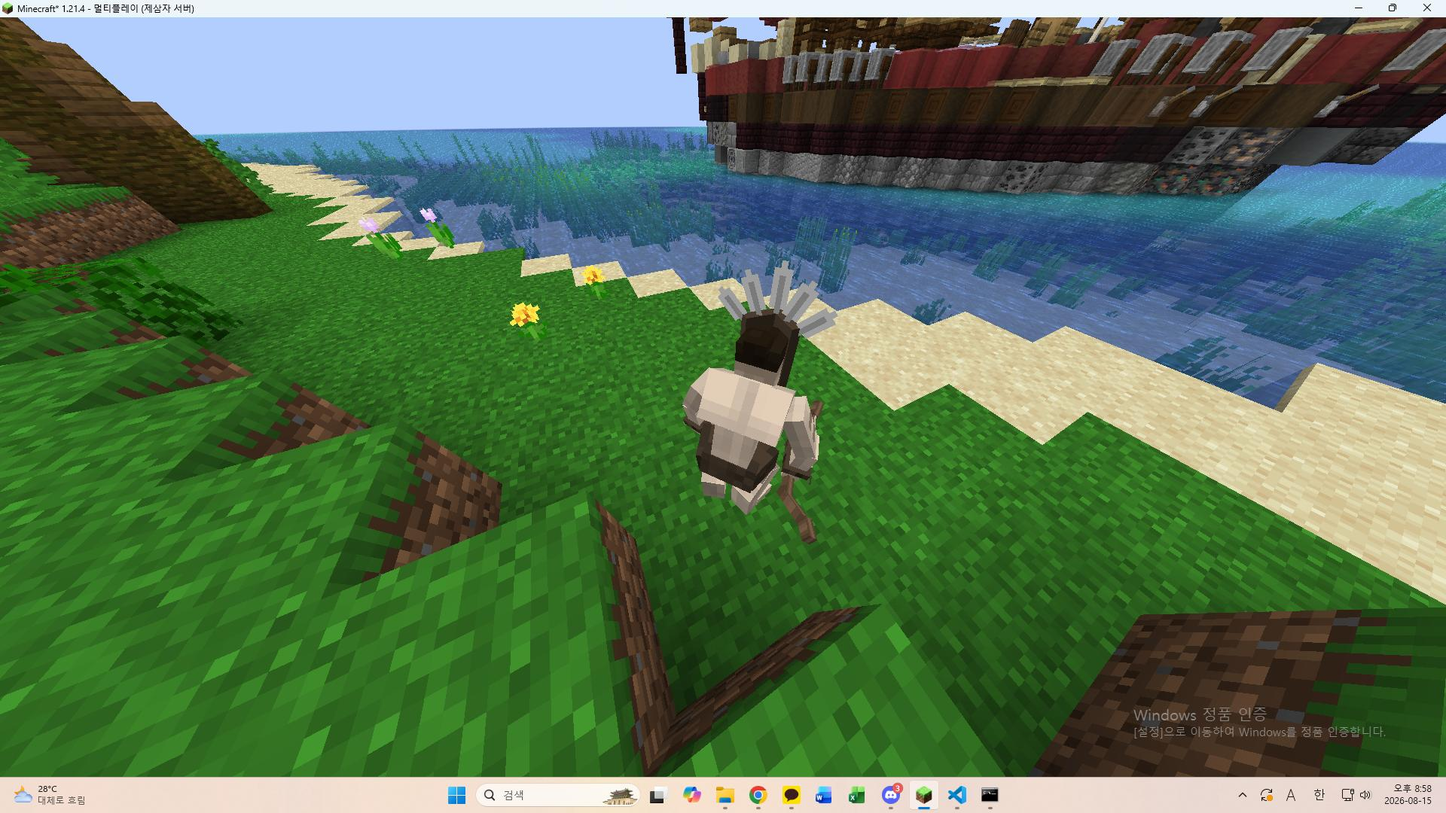bow_indian: (643, 260, 894, 572)
